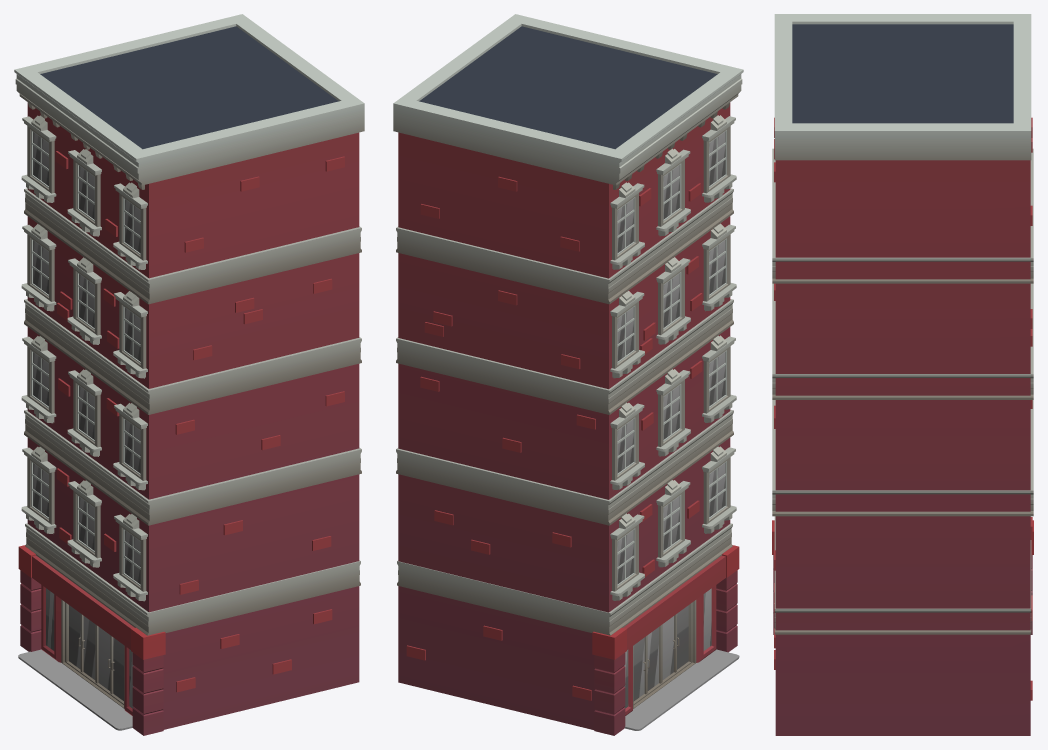
Rendered from Building_21_1_F.glb.
The picture shows the model from 3 angles, left to right: view 1: azimuth 30°, elevation 25°; view 2: azimuth 150°, elevation 25°; view 3: azimuth 270°, elevation 25°; orthographic projection. The views are drawn at different scales.
Parts seen in each view (by area): view 1: Building_21_1_F; view 2: Building_21_1_F; view 3: Building_21_1_F.
Boxes of the visible parts, <box> form: Building_21_1_F: <box>14,14,364,735</box>; Building_21_1_F: <box>393,14,743,735</box>; Building_21_1_F: <box>772,14,1033,735</box>.
Size of the model in its own units: 7.79 by 18.25 by 7.13.
3 materials, 3 textured.
